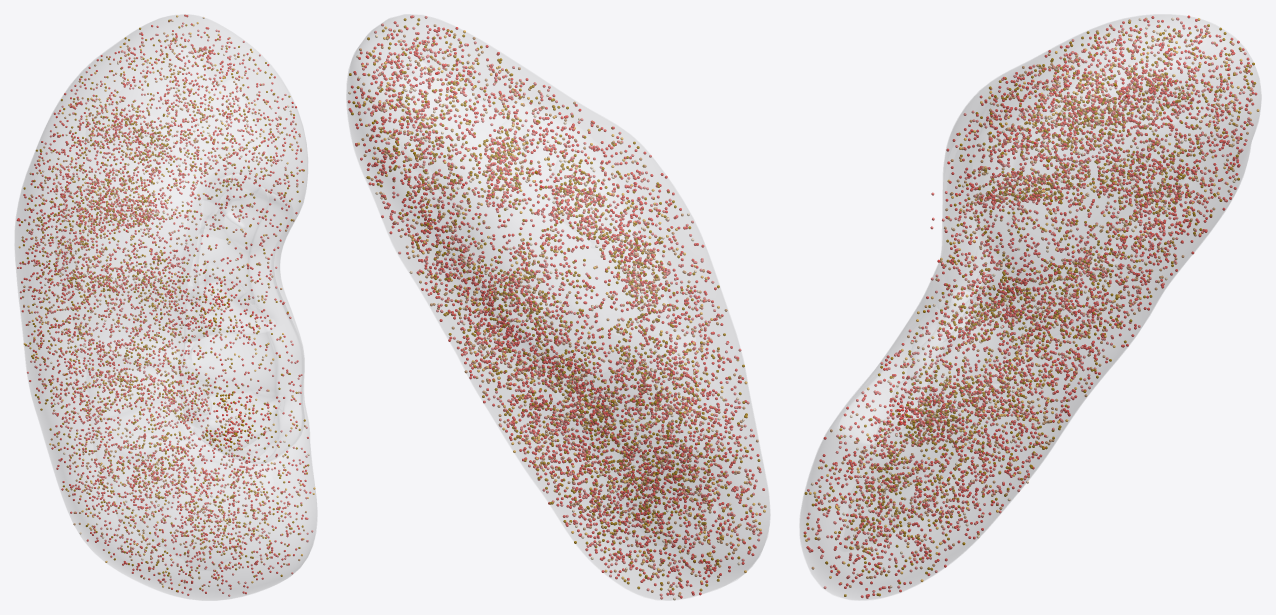
File: 3d-vh-m-kidney-r-UBERON_0004539-all-as-pan-human-azimuth-sphere-hra-pop.glb
3 views of the same model, side by side, from view 1: azimuth 30°, elevation 25°; view 2: azimuth 150°, elevation 25°; view 3: azimuth 270°, elevation 25° (orthographic). The views are drawn at different scales.
Visible parts, largest first — view 1: VH_M_kidney_capsule_R, VH_M_outer_cortex_of_kidney_R, VH_M_hilum_of_kidney_R, VH_M_renal_column_R, VH_M_renal_pyramid_f, VH_M_renal_pyramid_h, VH_M_renal_papilla_R_g; view 2: VH_M_kidney_capsule_R, VH_M_outer_cortex_of_kidney_R; view 3: VH_M_kidney_capsule_R, VH_M_outer_cortex_of_kidney_R, VH_M_hilum_of_kidney_R, VH_M_renal_pyramid_f.
Boxes of the visible parts, x1,y1,x2,y2 form: VH_M_kidney_capsule_R: [14, 14, 316, 600]; VH_M_outer_cortex_of_kidney_R: [17, 16, 311, 599]; VH_M_hilum_of_kidney_R: [181, 174, 301, 462]; VH_M_renal_column_R: [187, 179, 276, 462]; VH_M_renal_pyramid_f: [186, 269, 275, 341]; VH_M_renal_pyramid_h: [182, 383, 280, 453]; VH_M_renal_papilla_R_g: [186, 383, 211, 414]; VH_M_kidney_capsule_R: [346, 14, 770, 600]; VH_M_outer_cortex_of_kidney_R: [347, 16, 769, 598]; VH_M_kidney_capsule_R: [799, 14, 1261, 600]; VH_M_outer_cortex_of_kidney_R: [800, 15, 1260, 599]; VH_M_hilum_of_kidney_R: [838, 129, 990, 444]; VH_M_renal_pyramid_f: [939, 286, 986, 340].
Size of the model in its own units: 0.0655 by 0.1125 by 0.0764.
